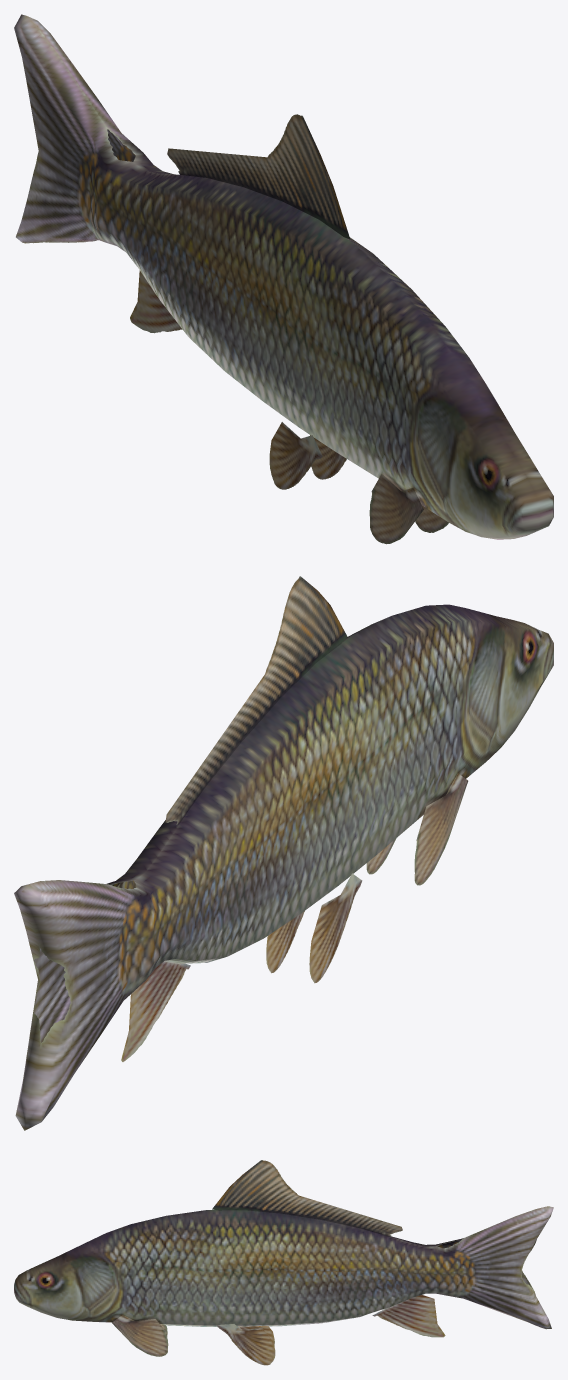
File: fish.fbx
3 views of the same model, one above another, from view 1: azimuth 30°, elevation 25°; view 2: azimuth 150°, elevation 25°; view 3: azimuth 270°, elevation 25° (orthographic). The views are drawn at different scales.
Visible parts, largest first — view 1: fish; view 2: fish; view 3: fish.
Part boxes in pixels (x1=…): fish: x1=14, y1=14, x2=553, y2=544; fish: x1=14, y1=576, x2=553, y2=1130; fish: x1=14, y1=1160, x2=553, y2=1365.
Bounding box in the file's own units: 37.45 × 209 × 506.
Materials: 1 (1 with a texture image).
